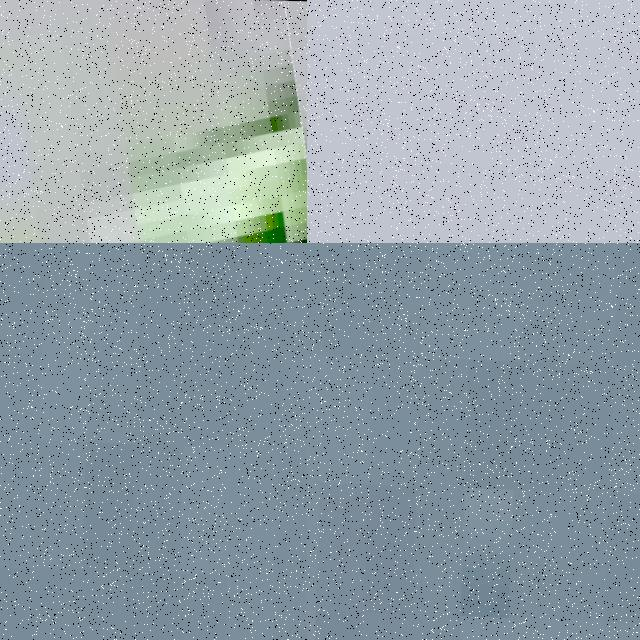drone: (0, 0, 307, 243)
